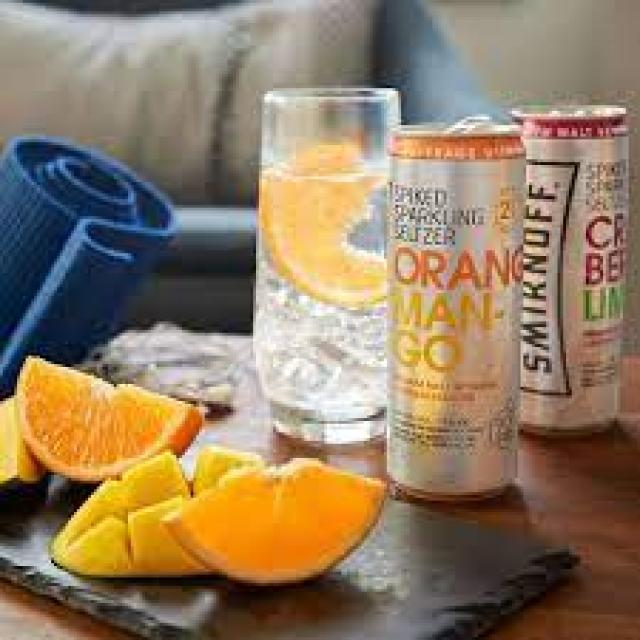Cans: (373, 120, 529, 500), (512, 97, 629, 441)
